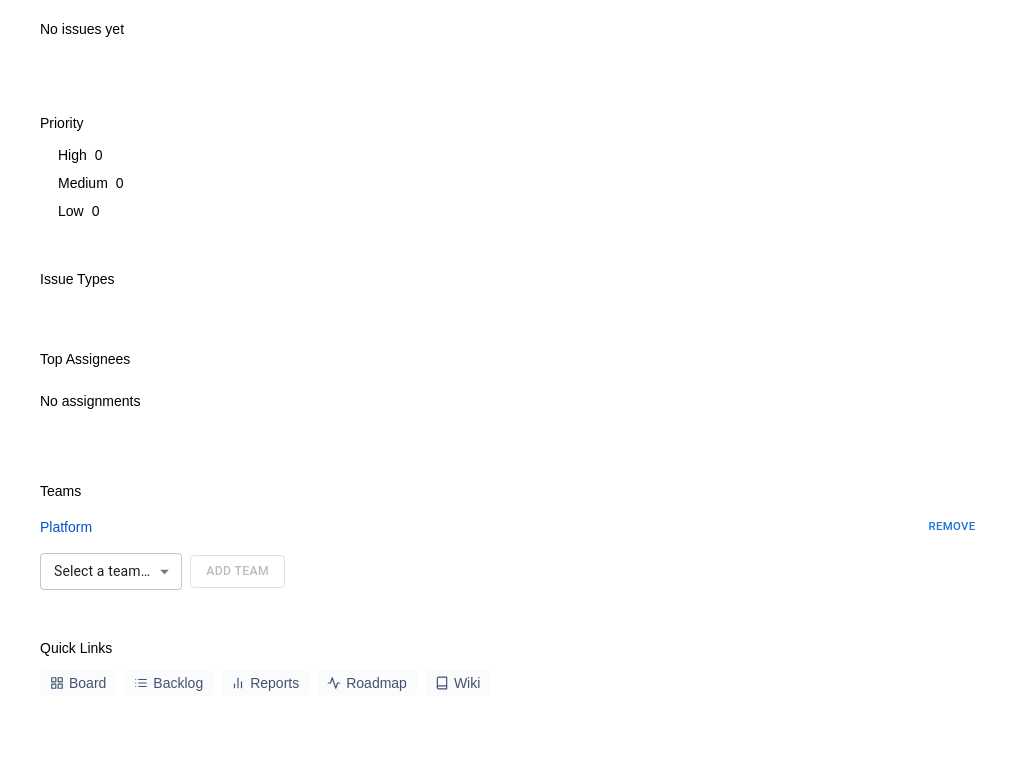
Test case: JL-424 — the project summary shows and edits its teams › surfaces a server rejection rather than swallowing it
The image size is (1024, 768).
What coordinates should you click on to do the following:
click the button with aria-label "remove Platform from this project"
I would click on:
 (952, 527)
Its box is 920,513 -> 984,541.
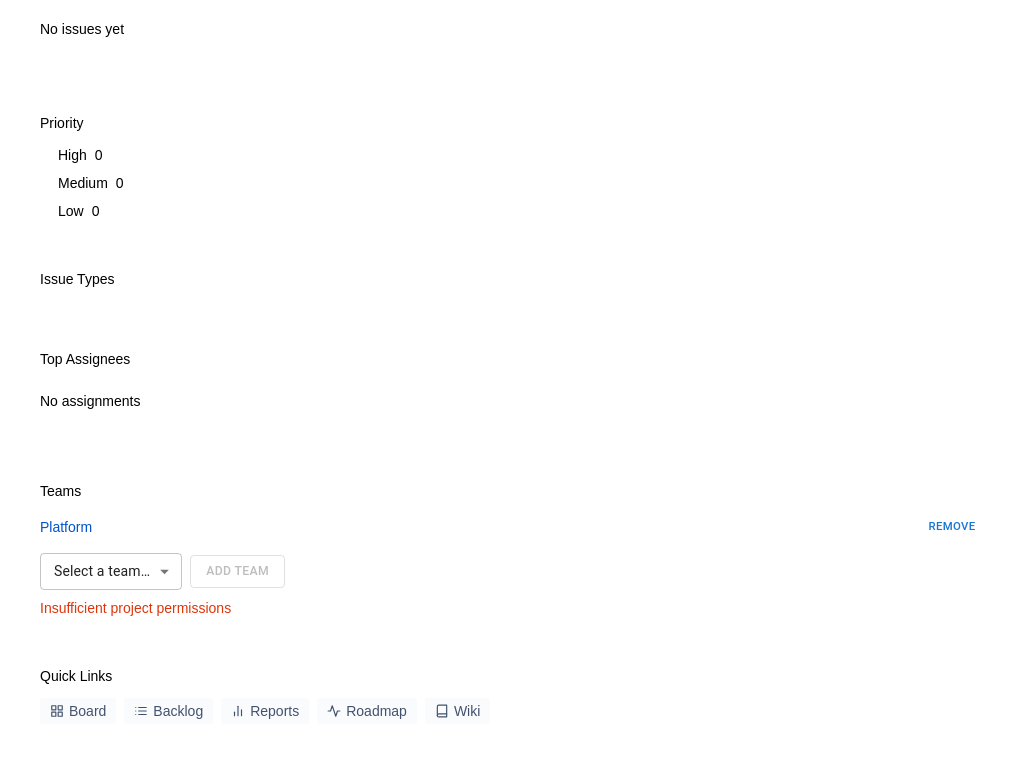
Expected: the message reads "Insufficient project permissions", 40,600 -> 231,616
